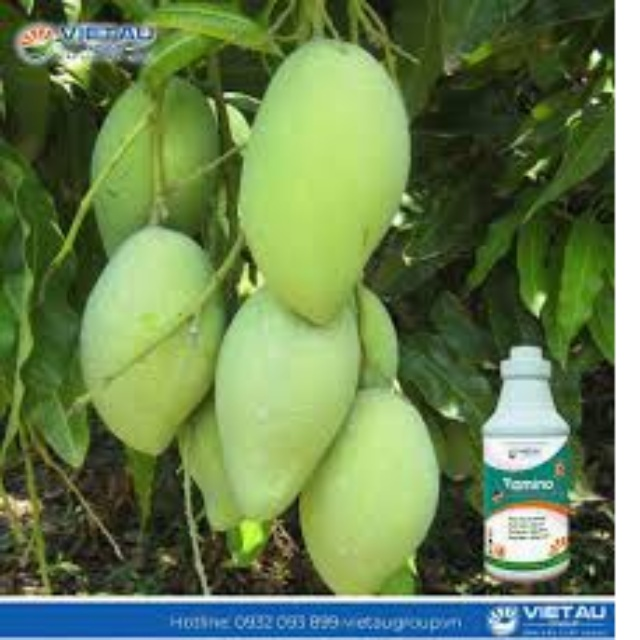thanh_long: (244, 37, 419, 321), (75, 234, 212, 464), (301, 377, 441, 595)
